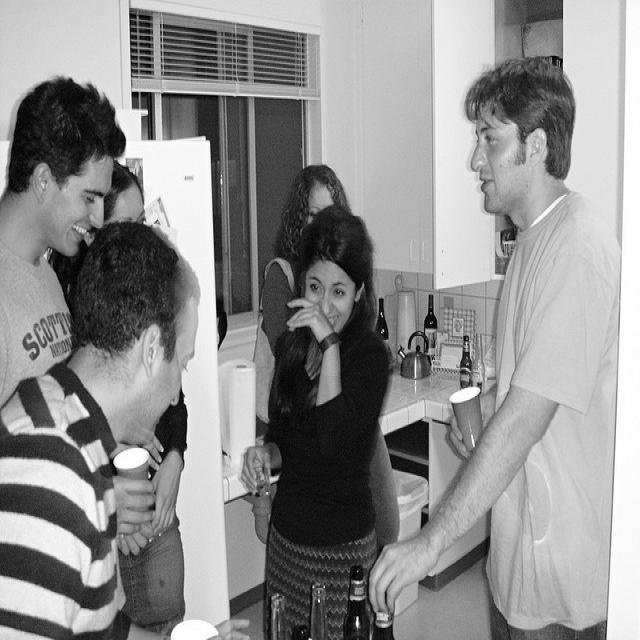monkey: (365, 49, 619, 633), (0, 219, 255, 640), (236, 210, 396, 633), (2, 83, 127, 403), (261, 166, 349, 359), (102, 162, 149, 227)
